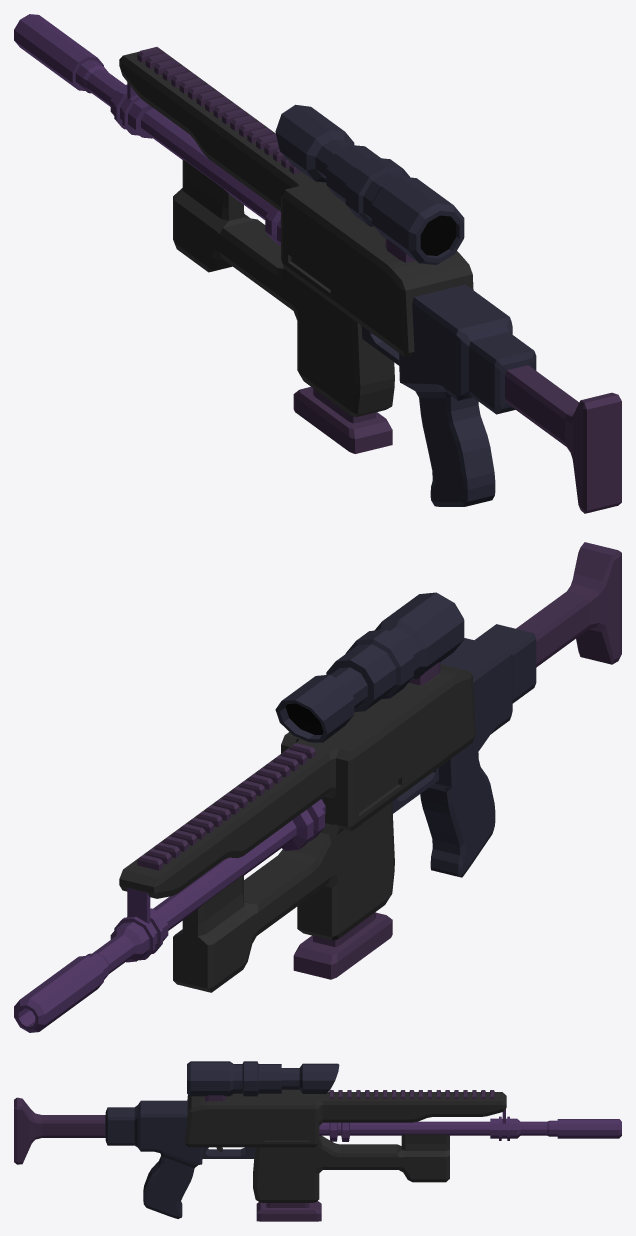
File: quaternius-sci-fi-gun-rifle.glb
The picture shows the model from 3 angles, top to bottom: view 1: azimuth 30°, elevation 25°; view 2: azimuth 150°, elevation 25°; view 3: azimuth 270°, elevation 25°; orthographic projection. The views are drawn at different scales.
Visible parts, largest first — view 1: Rifle; view 2: Rifle; view 3: Rifle.
Boxes of the visible parts, x1=… form: Rifle: x1=14, y1=14, x2=621, y2=513; Rifle: x1=14, y1=542, x2=621, y2=1032; Rifle: x1=14, y1=1061, x2=621, y2=1221.
Bounding box in the file's own units: 0.6301 × 2.47 × 8.85.
Materials: 1 (1 with a texture image).
